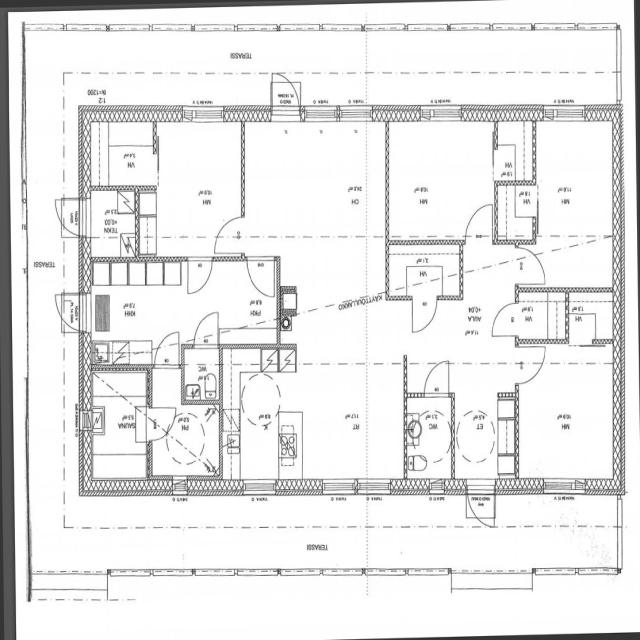door: (168, 319, 208, 361), (245, 254, 278, 300), (270, 73, 302, 120), (515, 246, 547, 289), (191, 307, 223, 349), (465, 487, 497, 529), (145, 404, 177, 444), (152, 329, 182, 371), (464, 200, 494, 242), (489, 298, 518, 340), (186, 255, 214, 298), (422, 360, 452, 400), (410, 294, 439, 335), (212, 214, 244, 251), (56, 290, 84, 332), (55, 196, 84, 236), (517, 347, 546, 386)
window: (185, 106, 226, 126), (355, 476, 392, 498), (320, 477, 358, 498), (533, 564, 579, 580), (241, 478, 277, 498), (303, 104, 339, 124), (426, 105, 463, 124), (549, 106, 586, 124), (338, 104, 372, 123)
zone: (245, 118, 386, 254), (515, 346, 619, 488), (385, 121, 495, 242), (153, 121, 244, 257), (222, 346, 307, 486), (86, 260, 186, 367), (534, 121, 616, 240), (451, 362, 518, 482), (86, 370, 150, 483), (147, 403, 221, 476), (84, 122, 158, 191), (387, 238, 462, 299), (406, 395, 454, 484), (84, 188, 138, 261), (494, 181, 537, 244), (515, 295, 568, 345), (493, 122, 535, 185), (566, 296, 615, 347), (183, 346, 221, 403), (56, 196, 86, 239)
